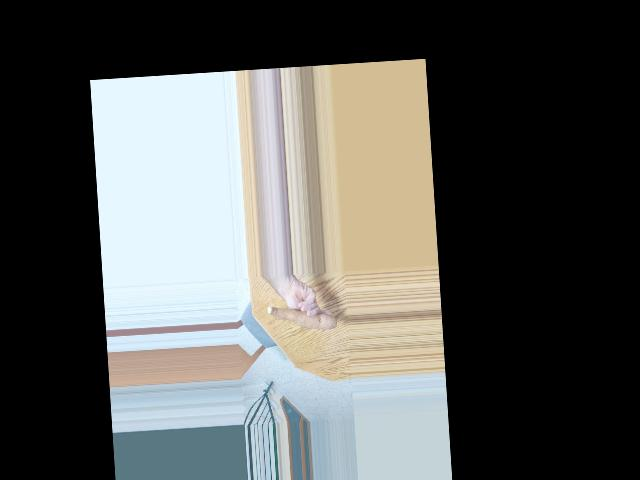sweet_potato: (265, 299, 336, 336)
